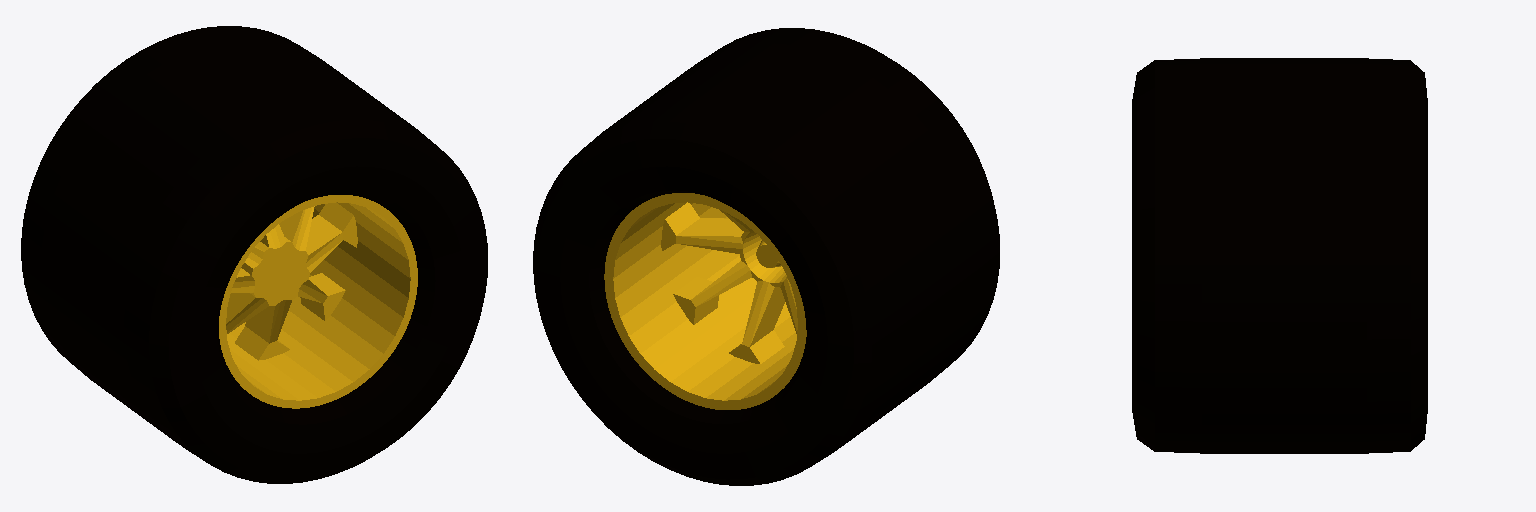
File: wheel.obj
3 renders of one model, left to right at view 1: azimuth 30°, elevation 25°; view 2: azimuth 150°, elevation 25°; view 3: azimuth 270°, elevation 25°, orthographic.
Visible parts, largest first — view 1: Tyre_Circle, Rim_Circle.002; view 2: Tyre_Circle, Rim_Circle.002; view 3: Tyre_Circle.
Boxes of the visible parts, <box> form: Tyre_Circle: <box>21,26,487,483</box>; Rim_Circle.002: <box>219,195,417,408</box>; Tyre_Circle: <box>533,28,999,485</box>; Rim_Circle.002: <box>604,193,806,409</box>; Tyre_Circle: <box>1132,58,1427,453</box>.
Bounding box in the file's own units: 1.99 × 1.99 × 1.49.